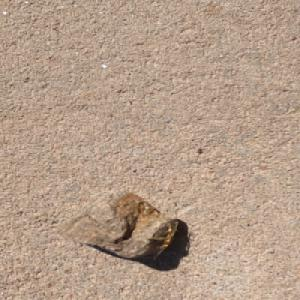Rock: (50, 188, 177, 260)
